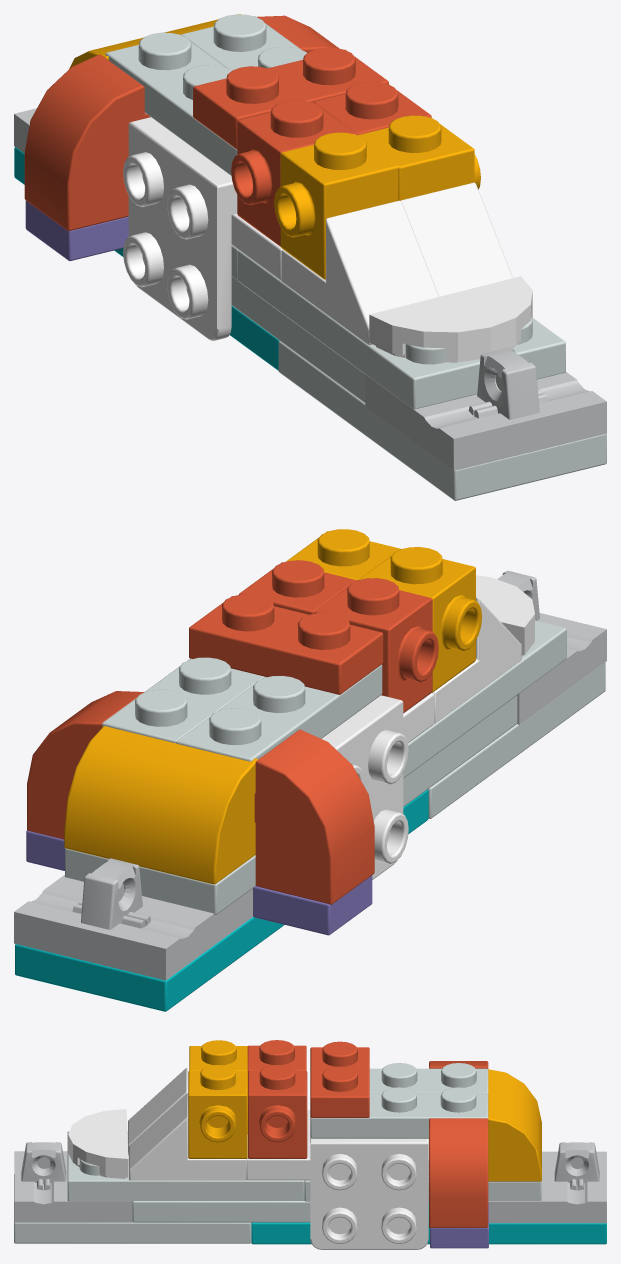
File: Passo20.fbx
3 views of the same model, one above another, from view 1: azimuth 30°, elevation 25°; view 2: azimuth 150°, elevation 25°; view 3: azimuth 270°, elevation 25° (orthographic). The views are drawn at different scales.
Parts seen in each view (by area): view 1: Bracket__1x2__1_.003, Hinge_plate_2x2__1_.008, Brick_cuved_1x2x1__1_.004, Slope_2x1_2__1_.005, Plate_2x4__2_.007, Brick_special_1x1__1_, Plate_2x4__1__1.007, Tile_round_1x2.012, Plate_1x2.014, Slope_2x1_2.005, Plate_1x3__1_.002, Brick_special_1x1 (+9 smaller); view 2: Brick_curved_2x1.006, Brick_cuved_1x2x1__1_.004, Hinge_plate_2x2.010, Plate_1x2.014, Plate_1x3__1_.002, Plate_2x6.010, Brick_special_1x1, Bracket__1x2__1_.003, Brick_special_1x1__1_, Plate_1x3.002, Brick_cuved_1x2x1.004, Plate_2x4__2_.007 (+10 smaller); view 3: Bracket__1x2.003, Brick_cuved_1x2x1.004, Hinge_plate_2x2.010, Plate_1x3.002, Plate_2x4__2_.007, Hinge_plate_2x2__1_.008, Brick_special_1x1__2_, Brick_special_1x1__3_, Brick_curved_2x1.006, Plate_2x4__1__1.007, Slope_2x1_2.005, Plate_1x2.014 (+11 smaller).
Part boxes in pixels (x1,y1,x2,y2): Bracket__1x2__1_.003: (123,117,237,340); Hinge_plate_2x2__1_.008: (365,347,606,470); Brick_cuved_1x2x1__1_.004: (24,54,150,230); Slope_2x1_2__1_.005: (281,200,438,344); Plate_2x4__2_.007: (237,250,565,409); Brick_special_1x1__1_: (274,132,399,279); Plate_2x4__1__1.007: (278,341,606,500); Tile_round_1x2.012: (369,276,532,362); Plate_1x2.014: (193,47,388,148); Slope_2x1_2.005: (401,182,512,296); Plate_1x3__1_.002: (105,32,237,175); Brick_special_1x1: (231,100,356,246); Brick_curved_2x1.006: (64,726,257,884); Brick_cuved_1x2x1__1_.004: (254,729,374,904); Hinge_plate_2x2.010: (14,858,253,980); Plate_1x2.014: (189,594,383,694); Plate_1x3__1_.002: (176,664,382,761); Plate_2x6.010: (15,789,428,1011); Brick_special_1x1: (314,578,438,712); Bracket__1x2__1_.003: (322,695,408,879); Brick_special_1x1__1_: (358,547,481,692); Plate_1x3.002: (102,657,264,743); Brick_cuved_1x2x1.004: (27,691,143,839); Plate_2x4__2_.007: (403,620,566,778); Bracket__1x2.003: (310,1138,428,1249); Brick_cuved_1x2x1.004: (429,1118,488,1227); Hinge_plate_2x2.010: (488,1142,606,1223); Plate_1x3.002: (310,1087,488,1138); Plate_2x4__2_.007: (67,1131,304,1201); Hinge_plate_2x2__1_.008: (14,1142,132,1222); Brick_special_1x1__2_: (248,1064,307,1158); Brick_special_1x1__3_: (188,1065,247,1158); Brick_curved_2x1.006: (488,1069,541,1181); Plate_2x4__1__1.007: (14,1174,250,1243); Slope_2x1_2.005: (129,1093,246,1180); Plate_1x2.014: (310,1041,369,1117).
Bounding box in the file's own units: 0.3217 × 0.2405 × 0.8002.
